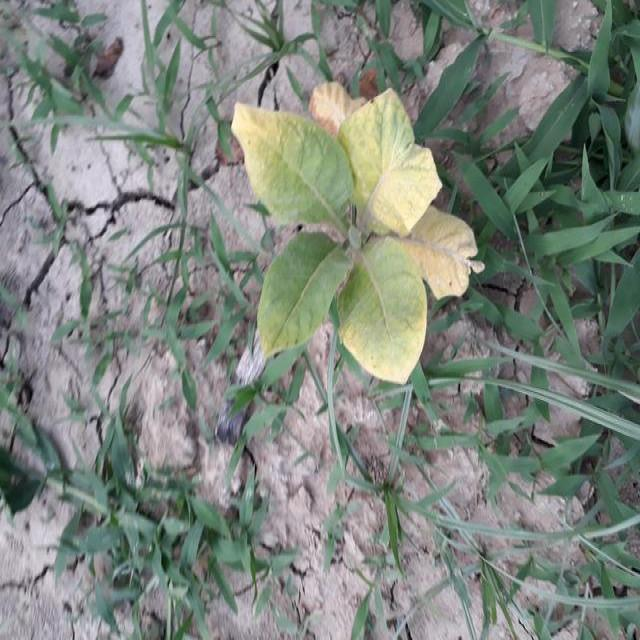crop: (230, 81, 474, 386)
